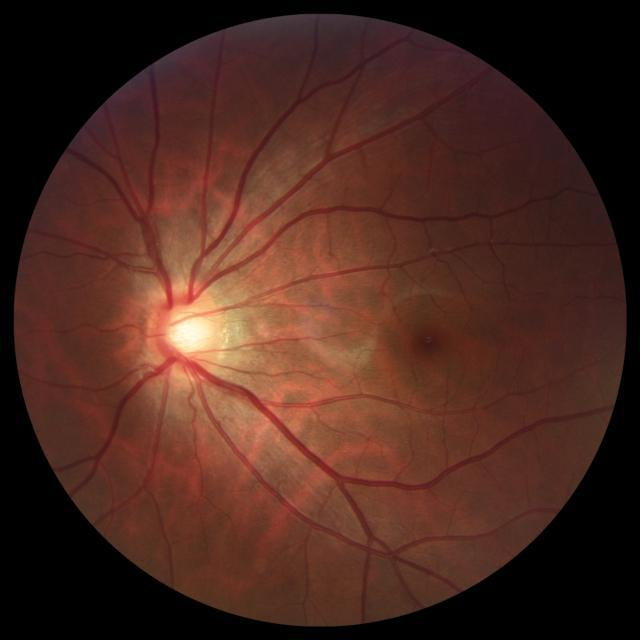OC: (165, 306, 210, 354)
OD: (142, 281, 226, 381)
